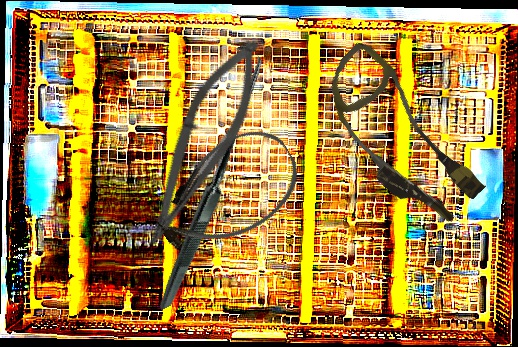Cannula: (298, 38, 502, 237), (137, 113, 315, 272)
Hook Surgical: (68, 40, 344, 311)
Micro Scissor: (131, 26, 276, 263)
